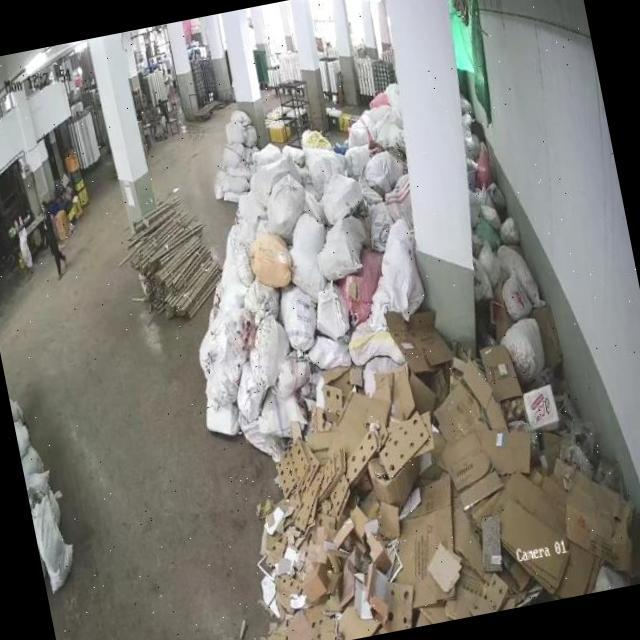person: (39, 196, 70, 280)
